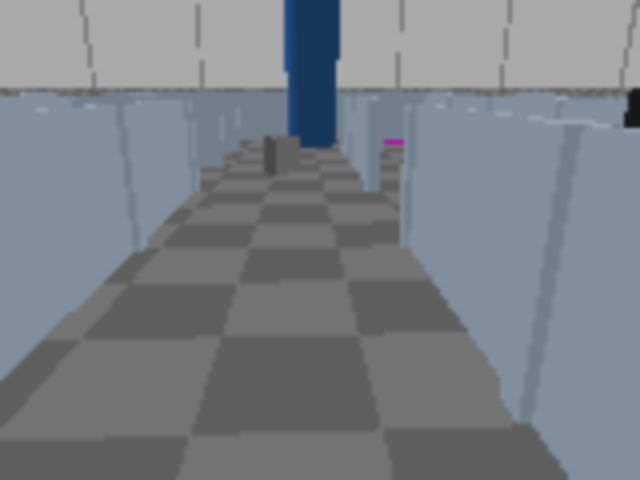obstacle: (264, 135, 301, 176)
person: (0, 0, 3, 357)
